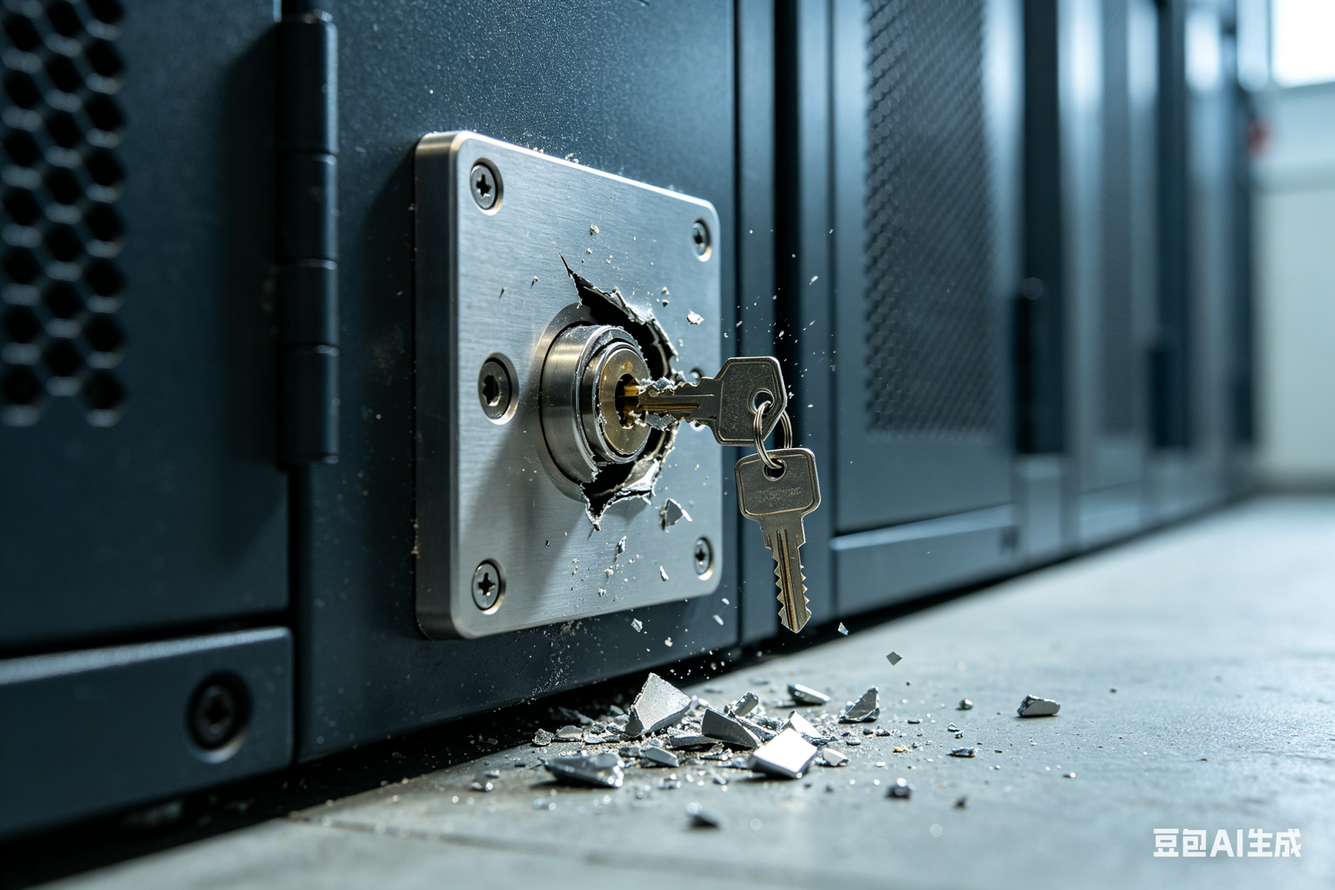BadLock: (539, 277, 691, 522)
